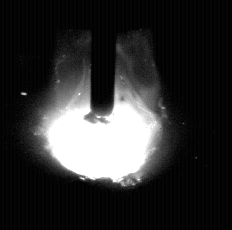arame: (91, 0, 116, 117)
poca: (44, 0, 163, 230)
